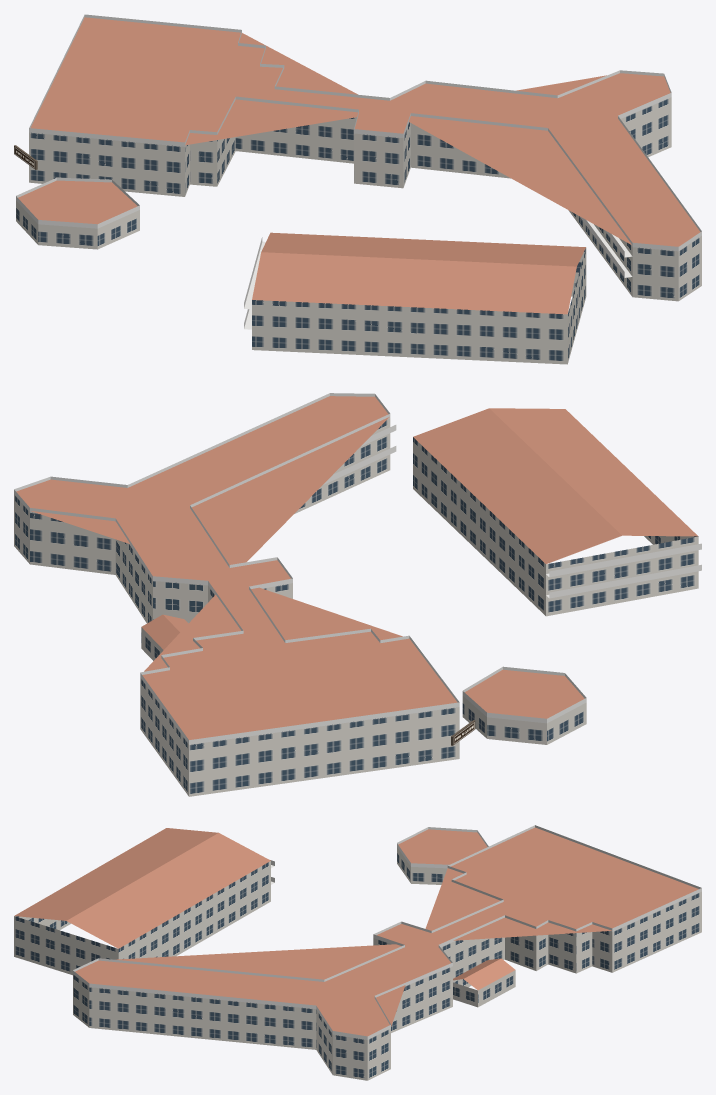
Rendered from m_bucutiandtararesort.glb.
3 renders of one model, top to bottom at view 1: azimuth 30°, elevation 25°; view 2: azimuth 150°, elevation 25°; view 3: azimuth 270°, elevation 25°, orthographic. The views are drawn at different scales.
Parts seen in each view (by area): view 1: m_bucutiandtararesort_lod0; view 2: m_bucutiandtararesort_lod0; view 3: m_bucutiandtararesort_lod0.
Part boxes in pixels (box(x1,y1,x2,y2)): m_bucutiandtararesort_lod0: box(14, 14, 701, 364); m_bucutiandtararesort_lod0: box(14, 393, 701, 796); m_bucutiandtararesort_lod0: box(14, 825, 701, 1080).
Size of what is drawn, in the model's own units: 96.8 by 10.41 by 120.
5 materials, 2 textured.
